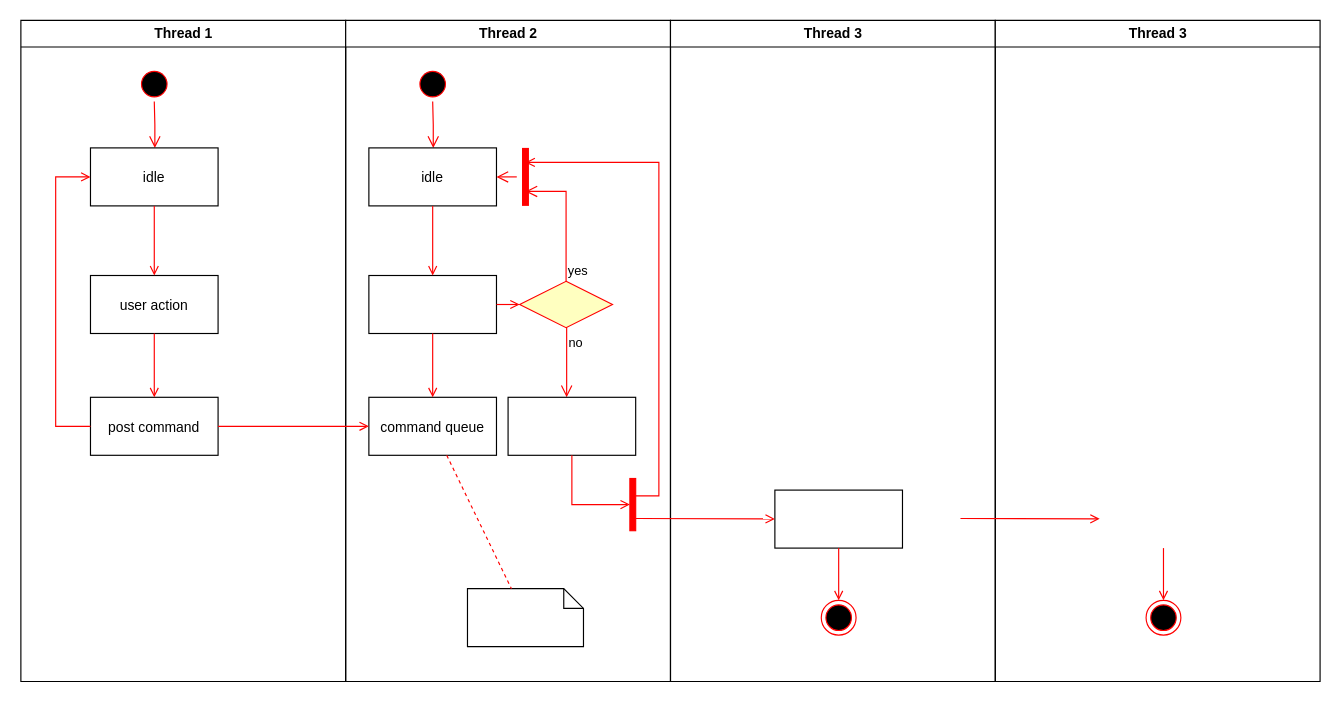
This 1340x702 diagram has some shape labels left out. The centre of each missing label's shape, as x and y in pixels:
check for new commands: point (432, 304)
critical section: point (524, 617)
dispatch command worker thread: point (571, 425)
process command: point (838, 518)
queue empty: point (565, 304)
